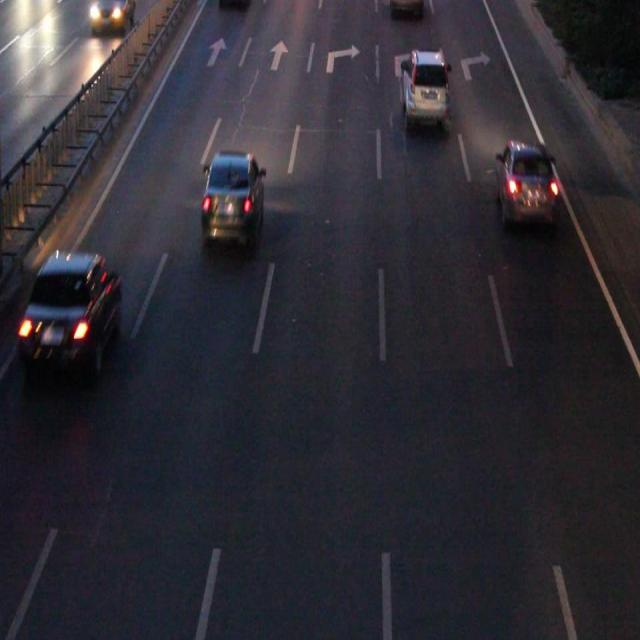car: (22, 255, 120, 370), (203, 154, 263, 244), (494, 144, 552, 221), (400, 50, 449, 130)
